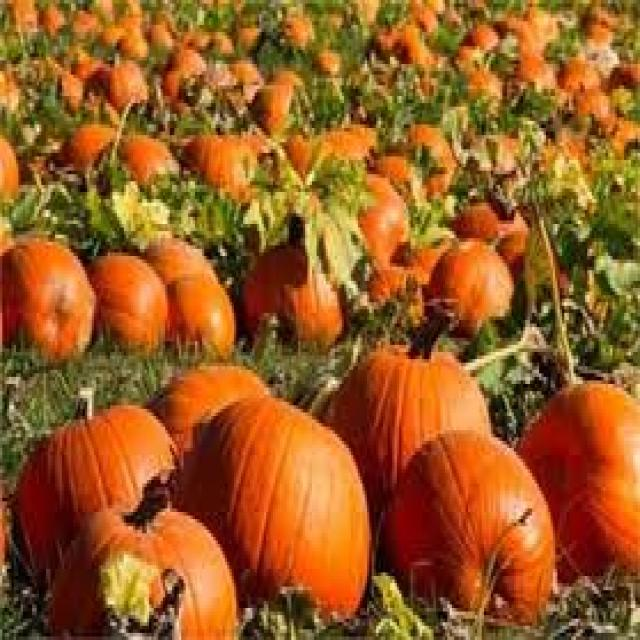biodegradable: (181, 388, 367, 622), (376, 423, 555, 622), (14, 384, 179, 580), (46, 466, 236, 636), (331, 310, 487, 516), (512, 377, 638, 587), (156, 359, 264, 473), (239, 231, 344, 341), (0, 231, 92, 352), (85, 246, 165, 349), (427, 235, 512, 327), (179, 121, 250, 203), (443, 192, 523, 263), (154, 32, 216, 121), (354, 167, 409, 263), (495, 224, 569, 295), (166, 271, 230, 349), (397, 117, 454, 192), (241, 61, 298, 132), (110, 128, 174, 188), (494, 7, 542, 85), (365, 260, 424, 320), (94, 50, 142, 121), (55, 117, 115, 171), (367, 11, 427, 64), (145, 235, 207, 285), (94, 4, 154, 54), (278, 121, 321, 181), (466, 125, 516, 175), (321, 117, 376, 160), (51, 60, 90, 114), (397, 228, 438, 278), (149, 11, 186, 61), (557, 54, 601, 93), (379, 149, 418, 192), (62, 0, 105, 39), (0, 132, 25, 199), (574, 82, 613, 124), (578, 0, 622, 36), (447, 36, 484, 75), (519, 0, 555, 39), (223, 54, 259, 93), (2, 0, 37, 36), (182, 22, 230, 47), (603, 54, 638, 86), (67, 50, 106, 78), (39, 0, 73, 32), (234, 15, 261, 54), (608, 114, 638, 149), (312, 43, 342, 78), (285, 11, 315, 46), (461, 18, 496, 46), (461, 64, 496, 92), (0, 473, 11, 562), (404, 0, 434, 32), (415, 54, 438, 93), (248, 132, 273, 164), (0, 61, 16, 103)
